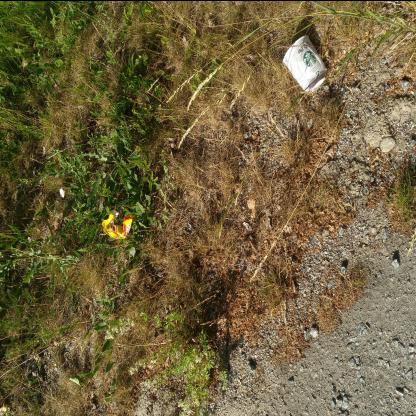karton: (284, 36, 329, 93)
plastik: (102, 210, 134, 240)
